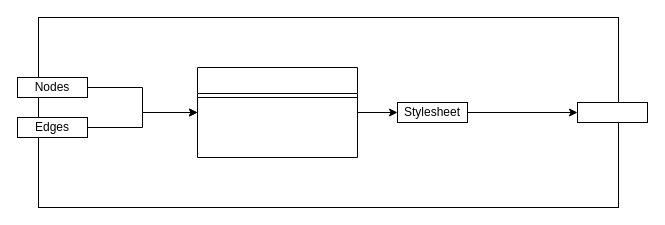
This 665x225 diagram has some shape labels left out. Each missing label, with the centre of its shape:
cytoscpae(): [277,112]
Graph: [612,112]
